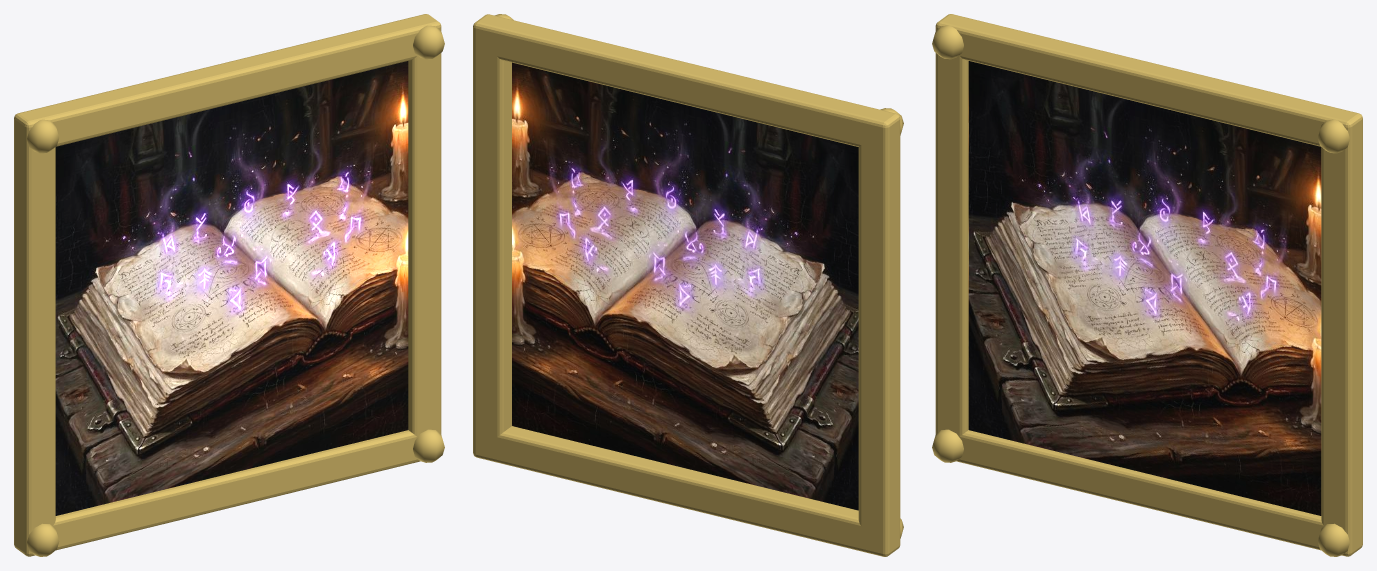
Rendered from art_glowing_grimoire.glb.
3 renders of one model, left to right at view 1: azimuth 30°, elevation 25°; view 2: azimuth 150°, elevation 25°; view 3: azimuth 330°, elevation 25°, orthographic.
Visible parts, largest first — view 1: GD_art_glowing_grimoire__m0, GD_art_glowing_grimoire__m1; view 2: GD_art_glowing_grimoire__m0, GD_art_glowing_grimoire__m1; view 3: GD_art_glowing_grimoire__m0, GD_art_glowing_grimoire__m1.
Part boxes in pixels (x1=…): GD_art_glowing_grimoire__m0: x1=55, y1=61, x2=408, y2=515; GD_art_glowing_grimoire__m1: x1=14, y1=14, x2=444, y2=556; GD_art_glowing_grimoire__m0: x1=512, y1=62, x2=858, y2=510; GD_art_glowing_grimoire__m1: x1=473, y1=14, x2=903, y2=556; GD_art_glowing_grimoire__m0: x1=968, y1=61, x2=1321, y2=515; GD_art_glowing_grimoire__m1: x1=932, y1=14, x2=1362, y2=556.
Bounding box in the file's own units: 0.96 × 0.96 × 0.095.
2 materials, 1 textured.
